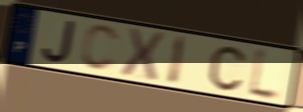C: (79, 23, 122, 73), (207, 45, 247, 93)
I: (165, 33, 188, 88)
J: (40, 19, 78, 65)
L: (246, 45, 283, 106)
X: (119, 25, 166, 83)
